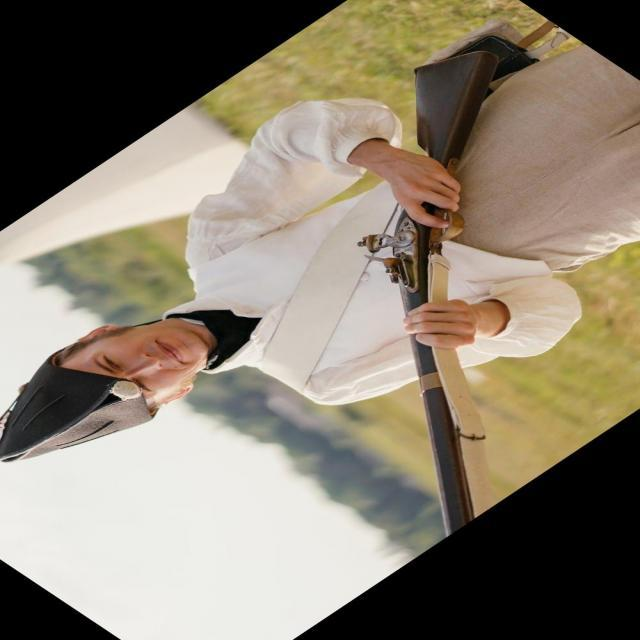weapon: (352, 50, 509, 538)
